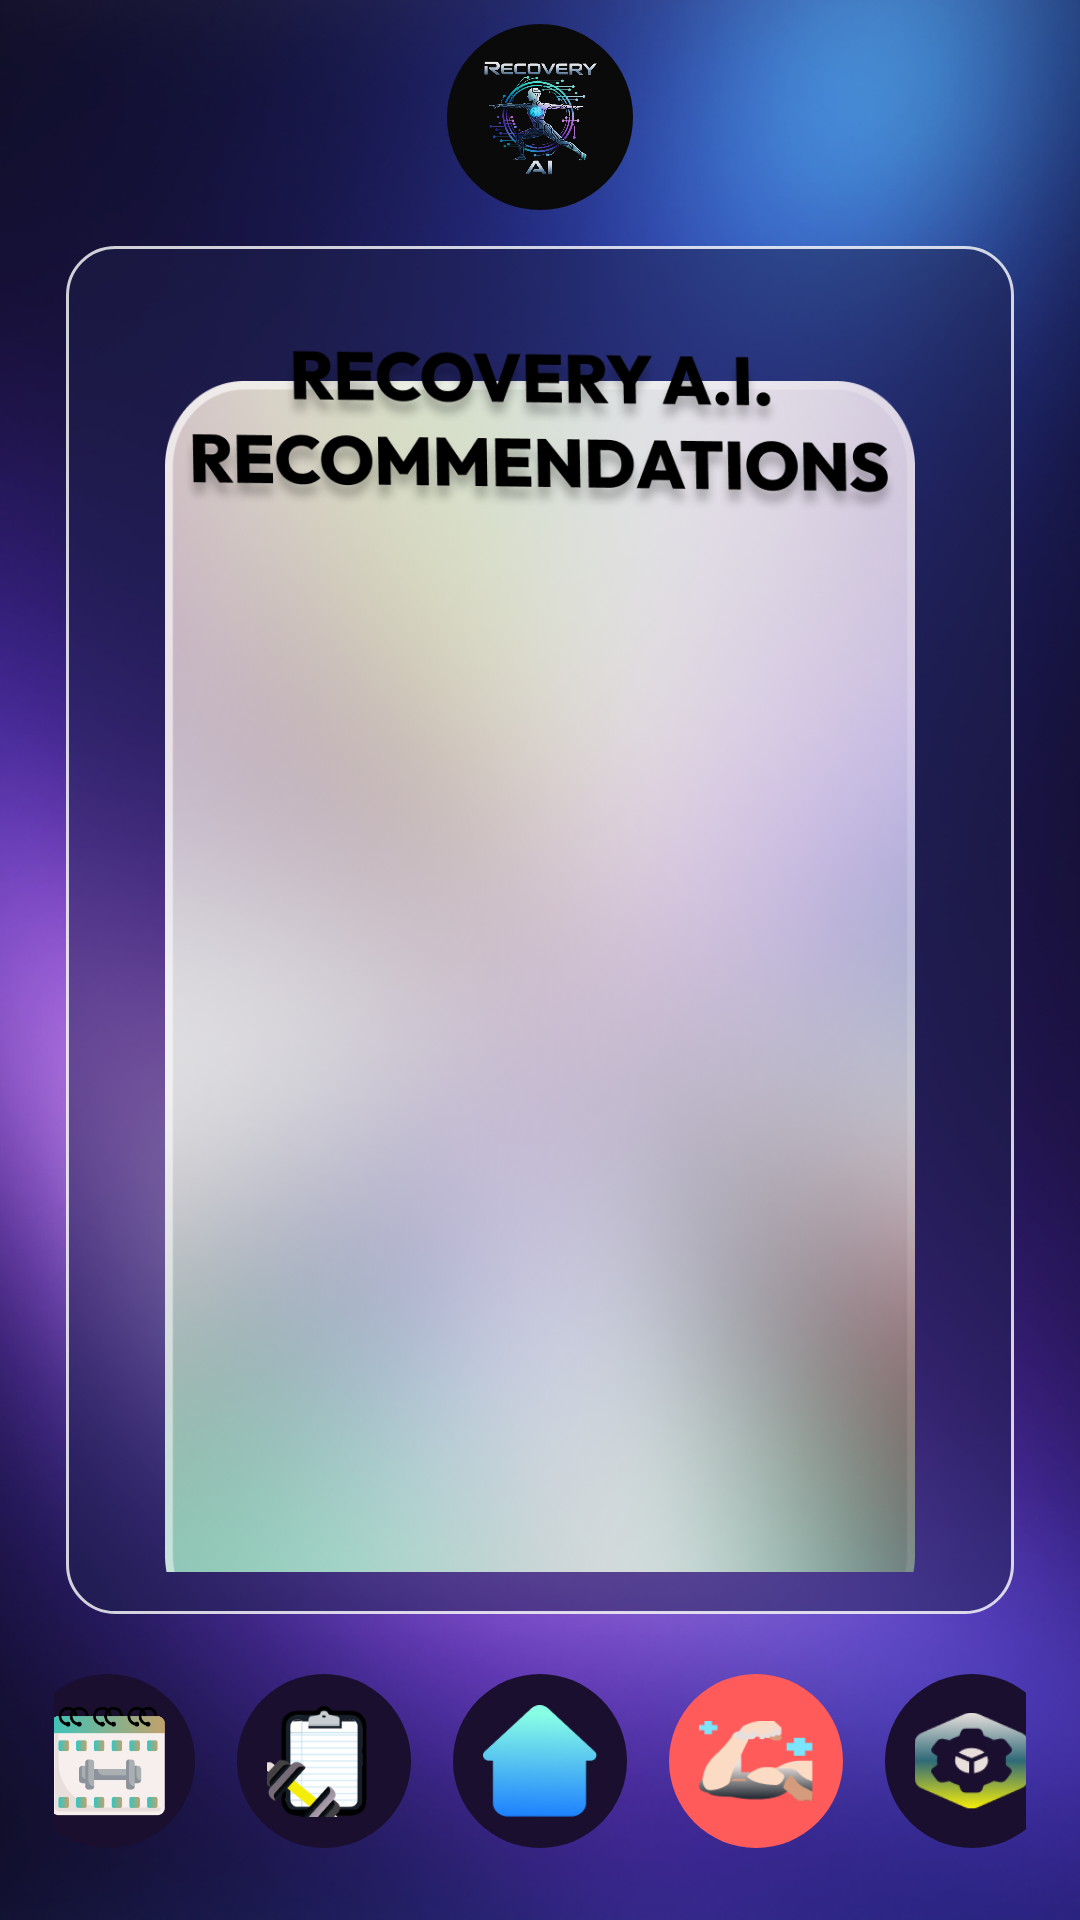

Where to tap for icons on this 1080px x 1920px app screen, as [x,y]:
arm: [756,1761]
clipboard: [316,1761]
hex: [970,1761]
home: [540,1761]
